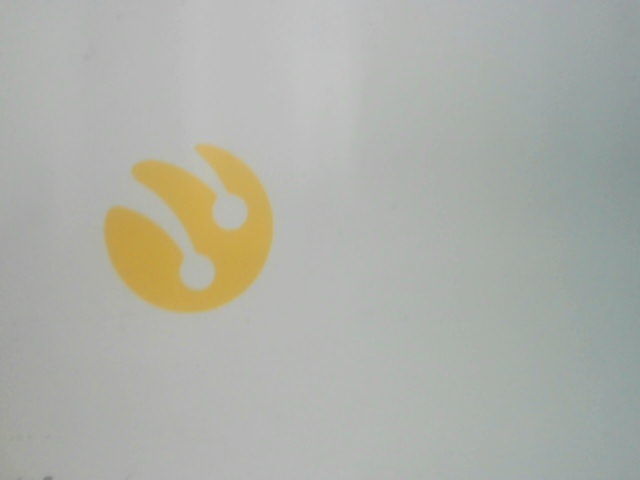AV_H3600Yellow: (95, 135, 293, 316)
